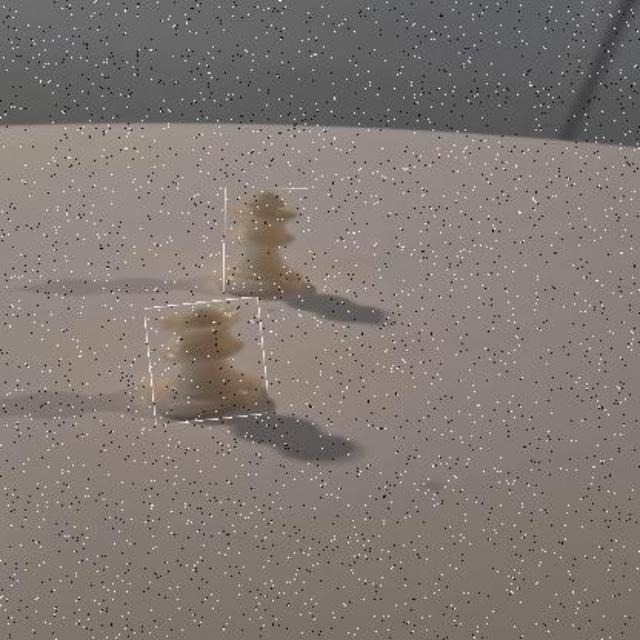white-king: (224, 188, 310, 295)
white-queen: (149, 301, 267, 422)
